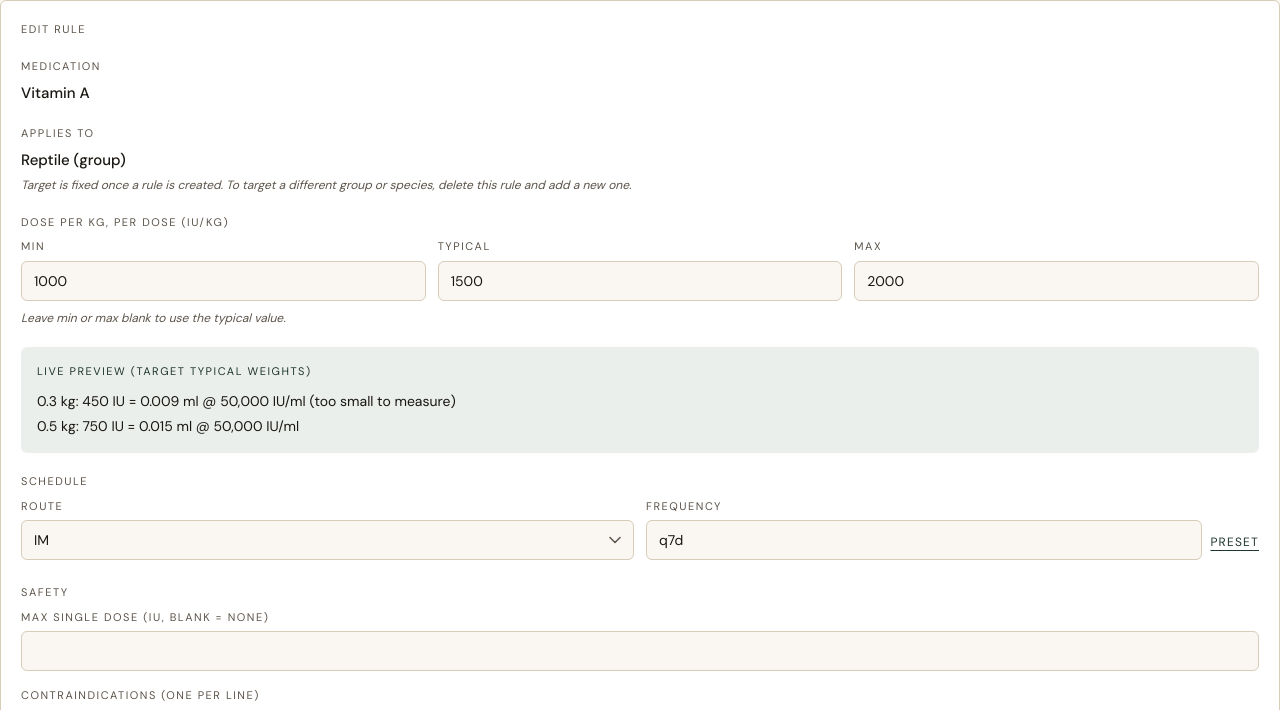
RuleEditor - fields (moved from RulesTab) › disables Save when typical is blank
Clear the field labelled "Typical". click: x=640, y=280
box: [438,260,842,300]
(page scrolled)
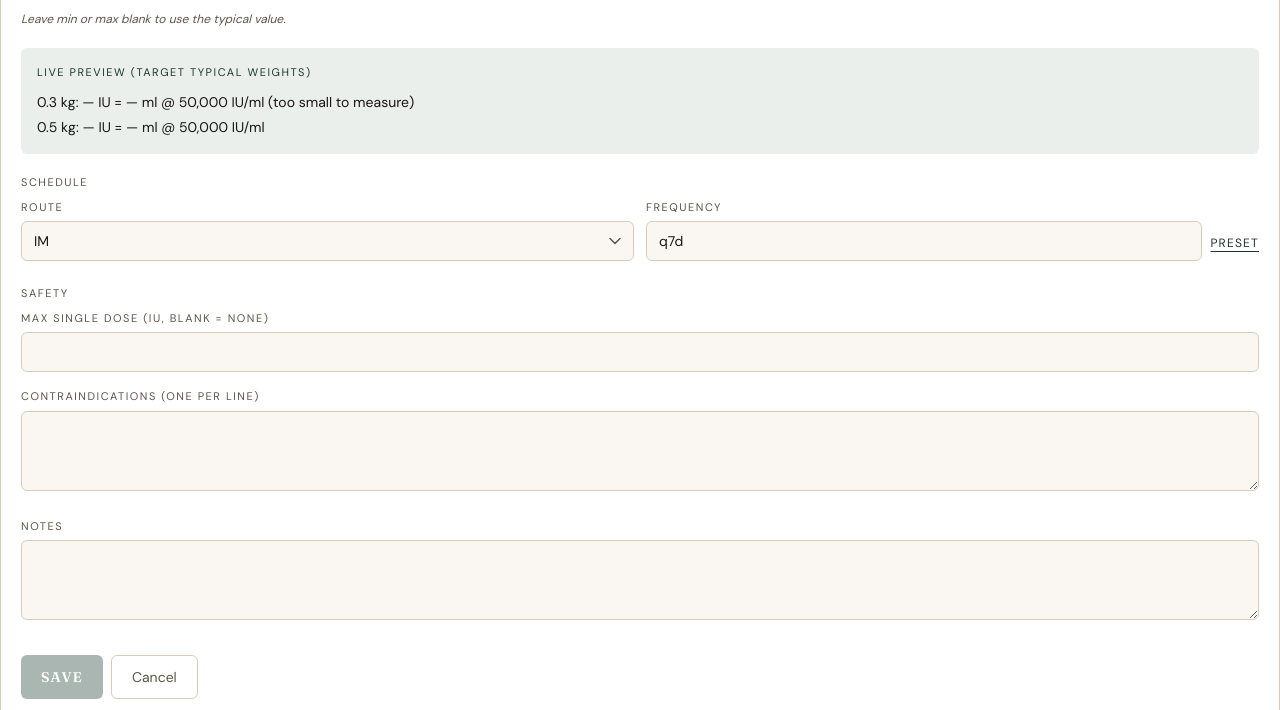
Now the button "Save" is disabled, box [21,655,103,699]
